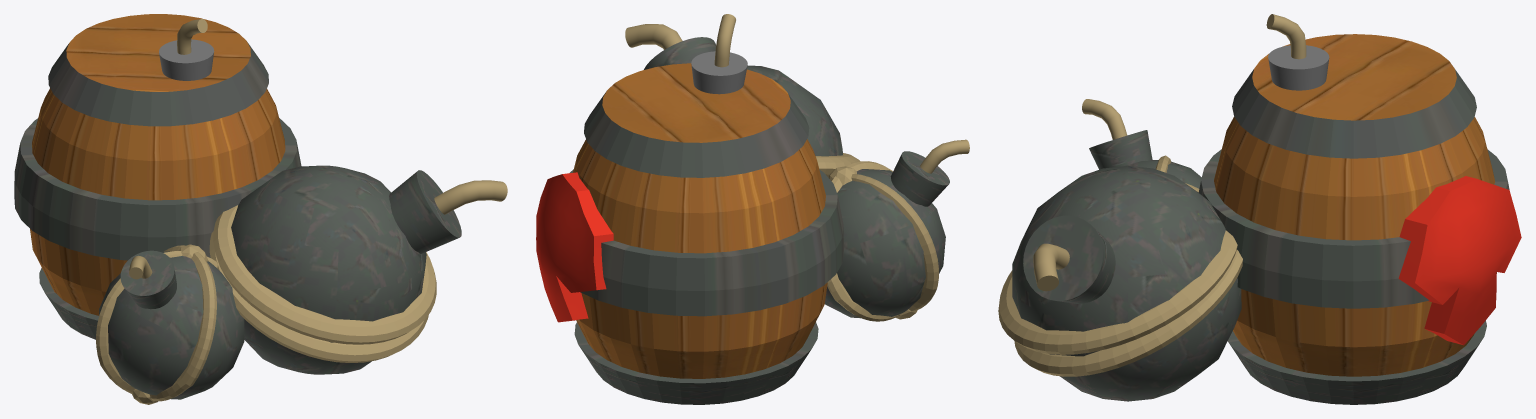
Rendered from Ground Bomb.fbx.
3 views of the same model, side by side, from view 1: azimuth 30°, elevation 25°; view 2: azimuth 150°, elevation 25°; view 3: azimuth 270°, elevation 25° (orthographic). The views are drawn at different scales.
Visible parts, largest first — view 1: Cylinder.001, Sphere.004, Sphere.001, Torus.004, Torus.003, Cylinder.009, Torus.001, Cylinder.007, Cylinder.002, Torus.002, Cylinder.010, Cylinder.011; view 2: Cylinder.001, Sphere.001, Cube.002, Sphere.004, Torus.002, Cylinder.007, Cylinder.002, Torus.001, Cylinder.009, Cylinder.010, Cylinder.008, Cylinder.011 (+1 smaller); view 3: Cylinder.001, Sphere.004, Cube.002, Torus.004, Cylinder.009, Torus.003, Cylinder.002, Cylinder.007, Cylinder.010, Cylinder.011, Cylinder.008, Sphere.001.
Boxes of the visible parts, bbox=[...] form: Cylinder.001: bbox=[14, 14, 301, 339]; Sphere.004: bbox=[231, 165, 426, 374]; Sphere.001: bbox=[99, 251, 244, 399]; Torus.004: bbox=[213, 205, 436, 344]; Torus.003: bbox=[209, 231, 428, 362]; Cylinder.009: bbox=[389, 170, 461, 253]; Torus.001: bbox=[150, 245, 216, 401]; Cylinder.007: bbox=[120, 250, 176, 309]; Cylinder.002: bbox=[159, 39, 214, 80]; Torus.002: bbox=[96, 251, 217, 393]; Cylinder.010: bbox=[434, 180, 507, 214]; Cylinder.011: bbox=[177, 19, 207, 54]; Cylinder.001: bbox=[569, 63, 843, 404]; Sphere.001: bbox=[825, 169, 945, 318]; Cube.002: bbox=[536, 172, 613, 322]; Sphere.004: bbox=[747, 65, 842, 156]; Torus.002: bbox=[828, 174, 938, 311]; Cylinder.007: bbox=[890, 151, 949, 206]; Cylinder.002: bbox=[691, 51, 747, 94]; Torus.001: bbox=[827, 161, 898, 321]; Cylinder.009: bbox=[644, 37, 715, 69]; Cylinder.010: bbox=[625, 24, 682, 49]; Cylinder.008: bbox=[920, 139, 969, 173]; Cylinder.011: bbox=[714, 14, 735, 67]; Cylinder.001: bbox=[1198, 34, 1509, 404]; Sphere.004: bbox=[1012, 166, 1241, 401]; Cube.002: bbox=[1398, 176, 1521, 345]; Torus.004: bbox=[998, 191, 1237, 354]; Cylinder.009: bbox=[1023, 215, 1115, 303]; Torus.003: bbox=[1014, 250, 1242, 376]; Cylinder.002: bbox=[1268, 45, 1329, 90]; Cylinder.007: bbox=[1089, 130, 1152, 169]; Cylinder.010: bbox=[1033, 243, 1069, 291]; Cylinder.011: bbox=[1266, 14, 1306, 59]; Cylinder.008: bbox=[1082, 99, 1127, 139]; Sphere.001: bbox=[1124, 160, 1201, 188].
Bounding box in the file's own units: 357 × 300 × 410.
Materials: 5 (2 with a texture image).
